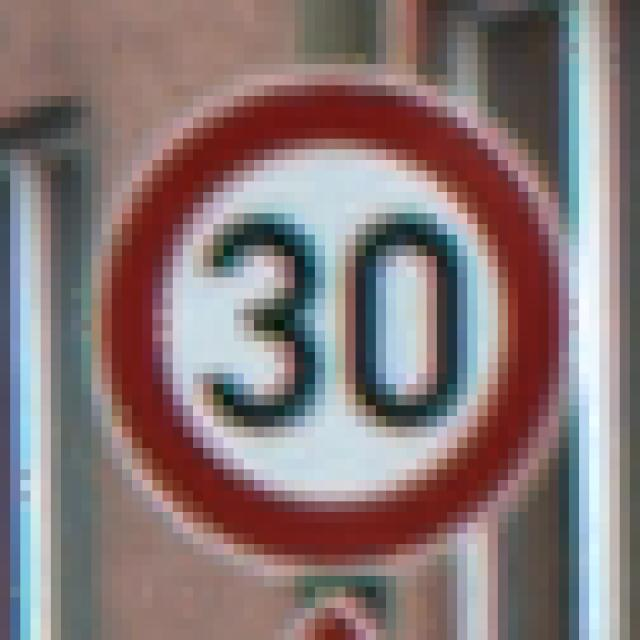Speed Limit -30-: (56, 53, 574, 566)
